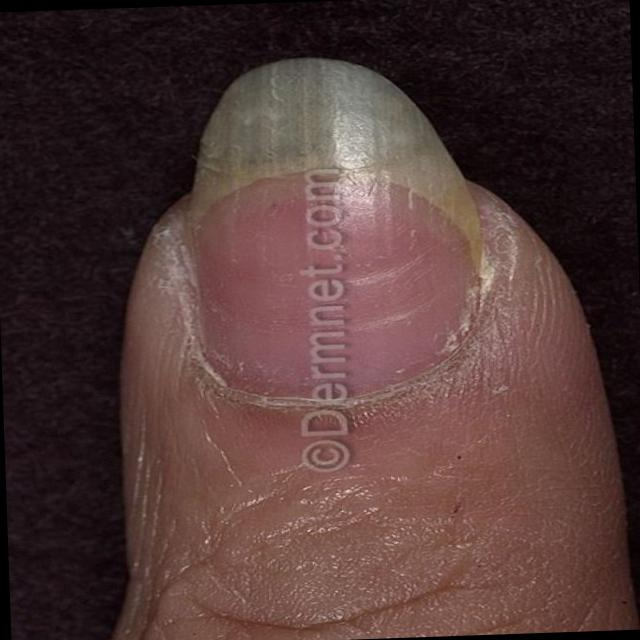Nail: (187, 55, 484, 398)
